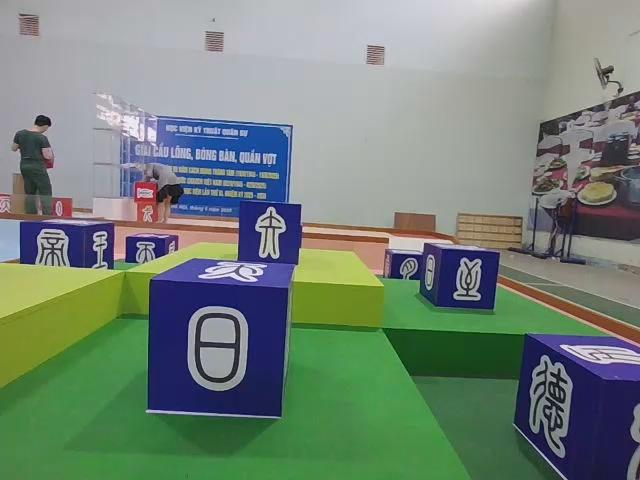R2 Fake Blue: (148, 255, 298, 420), (514, 334, 639, 480), (419, 243, 500, 311), (19, 221, 116, 272), (239, 201, 305, 266), (125, 235, 179, 266), (386, 249, 426, 281)
